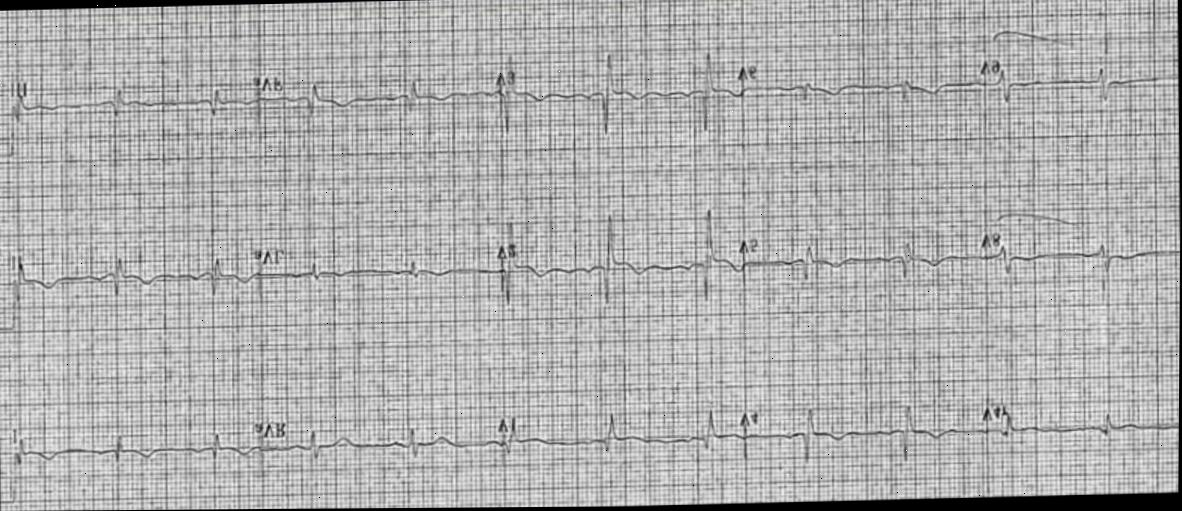Lead_I: (7, 229, 248, 326), (10, 393, 254, 487)
Lead_II: (12, 61, 249, 153)
Lead_V1: (497, 382, 744, 485)
Lead_V2: (492, 214, 738, 318)
Lead_V3: (495, 42, 738, 142)
Lead_V4: (741, 375, 987, 484)
Lead_V5: (734, 200, 979, 312)
Lead_V6: (736, 30, 980, 141)
Lead_aVF: (246, 50, 492, 146)
Lead_aVL: (248, 218, 492, 327)
Lead_aVR: (251, 382, 498, 485)
